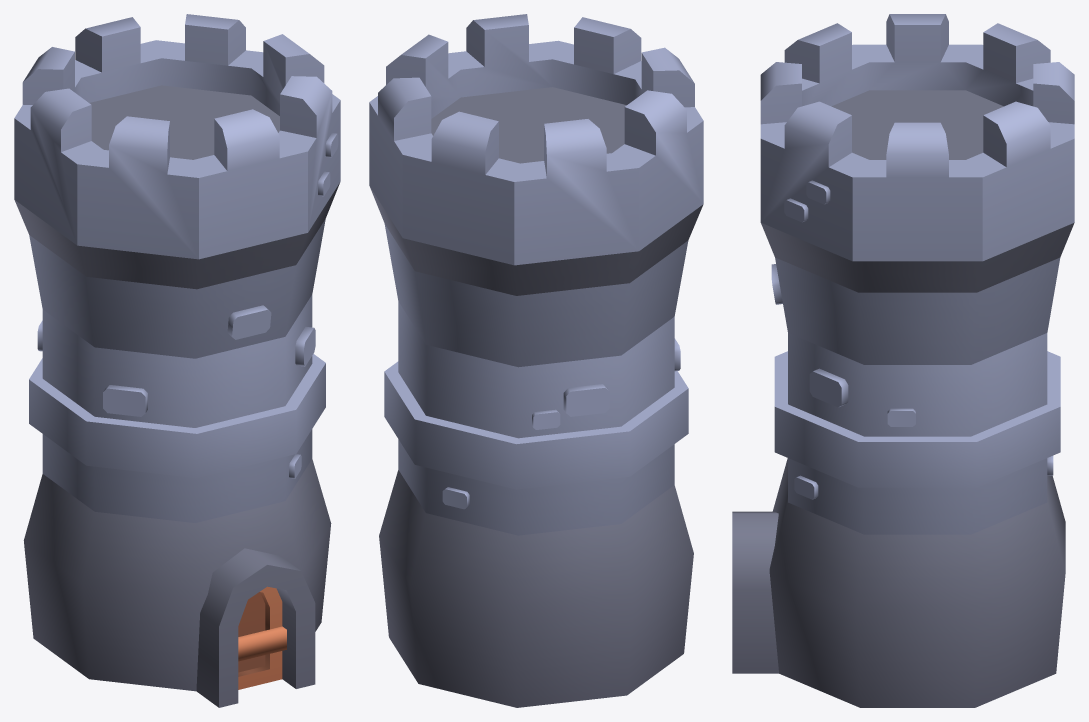
File: pk_tower-complete-small.glb
The picture shows the model from 3 angles, left to right: view 1: azimuth 30°, elevation 25°; view 2: azimuth 150°, elevation 25°; view 3: azimuth 270°, elevation 25°; orthographic projection. The views are drawn at different scales.
Visible parts, largest first — view 1: tower-complete-small; view 2: tower-complete-small; view 3: tower-complete-small.
Boxes of the visible parts, left/top/right/bottom form: tower-complete-small: left=14, top=14, right=340, bottom=707; tower-complete-small: left=369, top=14, right=703, bottom=707; tower-complete-small: left=732, top=14, right=1074, bottom=707.
Bounding box in the file's own units: 3.35 × 6.78 × 3.66.
Materials: 1 (1 with a texture image).
